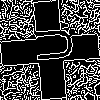U: (25, 25, 74, 65)
